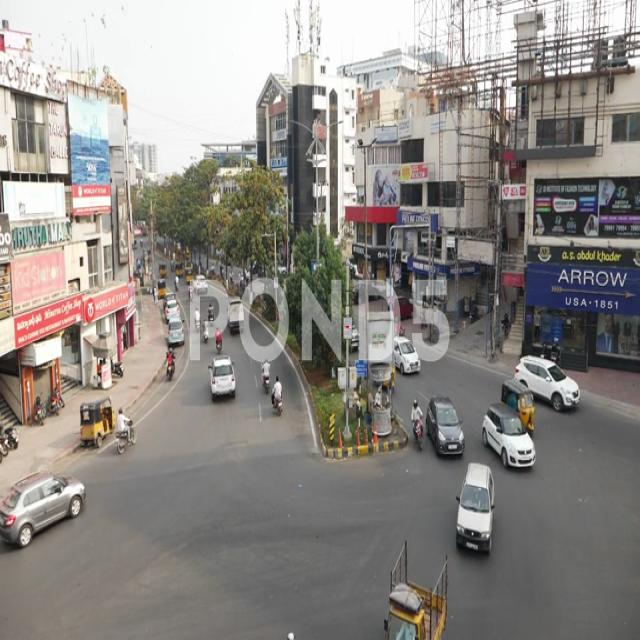car: (0, 477, 90, 555), (483, 397, 540, 487), (448, 460, 498, 559), (427, 379, 471, 466), (535, 358, 582, 413), (210, 356, 237, 404), (396, 339, 422, 378)
motorbike: (115, 408, 137, 454), (411, 395, 423, 454), (273, 370, 283, 420), (165, 352, 176, 386)
rikshaw: (78, 402, 110, 452)
